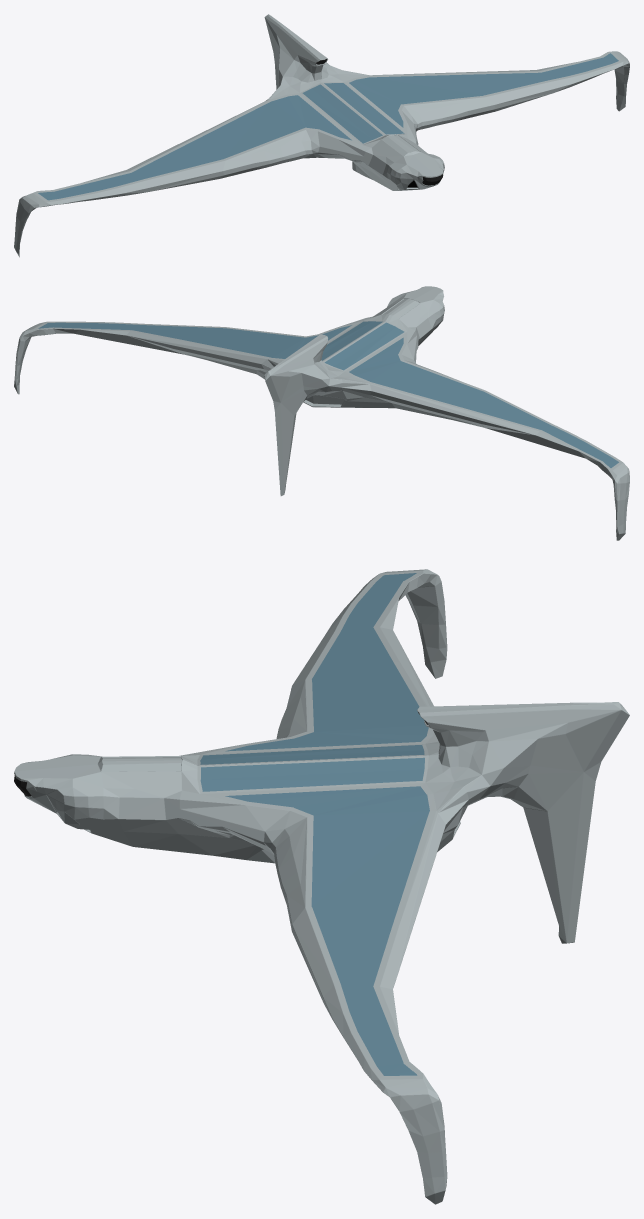
Rendered from ship5.dae.
3 renders of one model, top to bottom at view 1: azimuth 30°, elevation 25°; view 2: azimuth 150°, elevation 25°; view 3: azimuth 270°, elevation 25°, orthographic. The views are drawn at different scales.
Parts seen in each view (by area): view 1: Quad Sphere; view 2: Quad Sphere; view 3: Quad Sphere.
Boxes of the visible parts, box(x1,y1,x2,y2) form: Quad Sphere: box(14, 14, 629, 257); Quad Sphere: box(14, 286, 629, 540); Quad Sphere: box(14, 569, 629, 1204).
Size of the model in its own units: 28.62 by 13.98 by 6.05.
